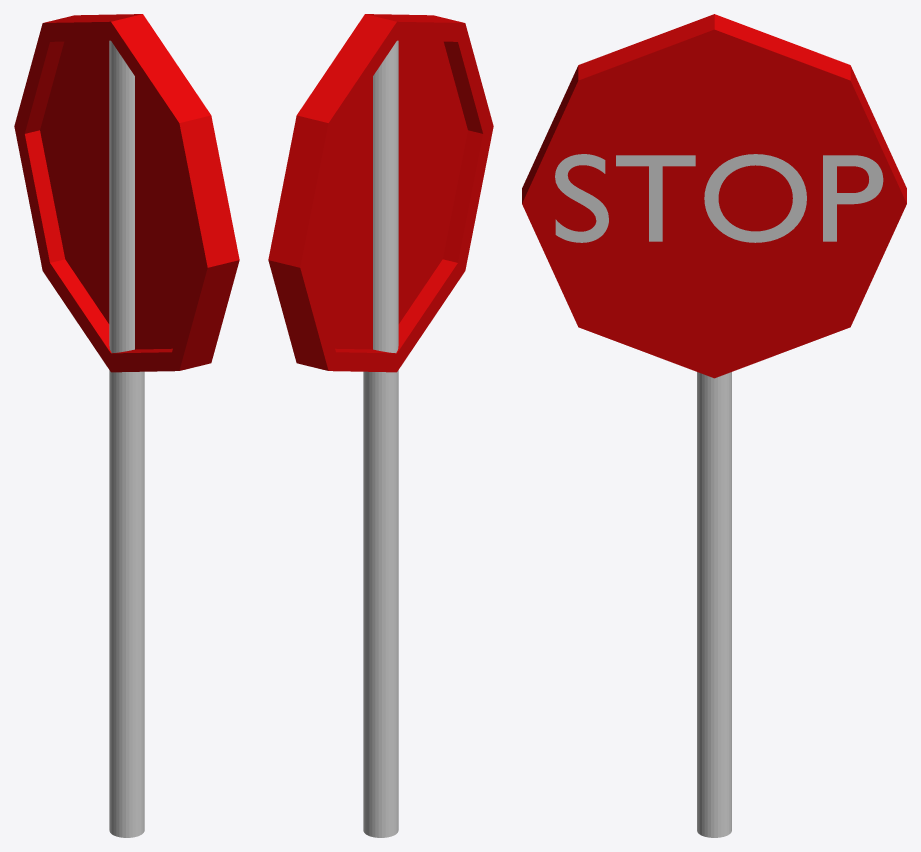
Rendered from StopSign.fbx.
3 renders of one model, left to right at view 1: azimuth 30°, elevation 25°; view 2: azimuth 150°, elevation 25°; view 3: azimuth 270°, elevation 25°, orthographic.
Visible parts, largest first — view 1: Cylinder.001, Cylinder; view 2: Cylinder.001, Cylinder; view 3: Cylinder.001, Cylinder, Text.
Boxes of the visible parts, x1,y1,x2,y2 form: Cylinder.001: (14,14,239,372); Cylinder: (109,40,144,837); Cylinder.001: (268,14,493,372); Cylinder: (363,40,398,837); Cylinder.001: (522,14,906,378); Cylinder: (697,372,731,837); Text: (555,154,883,242).
Bounding box in the file's own units: 2.19 × 51 × 22.
